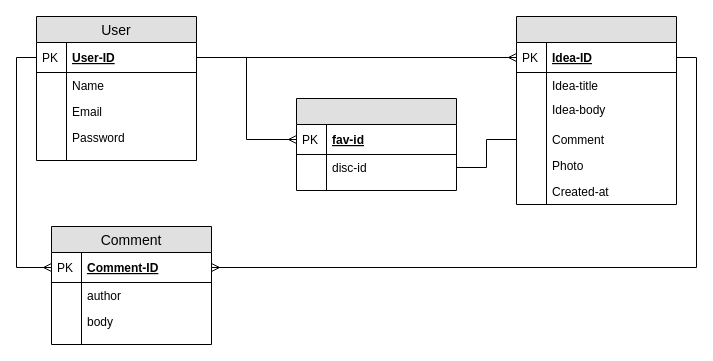
Some shapes in this 713 by 361 pixel diagram are drawn without their labels. Each missing label, with the box of its shape:
Discussion: (516, 16, 676, 204)
Favorite: (296, 98, 456, 190)
